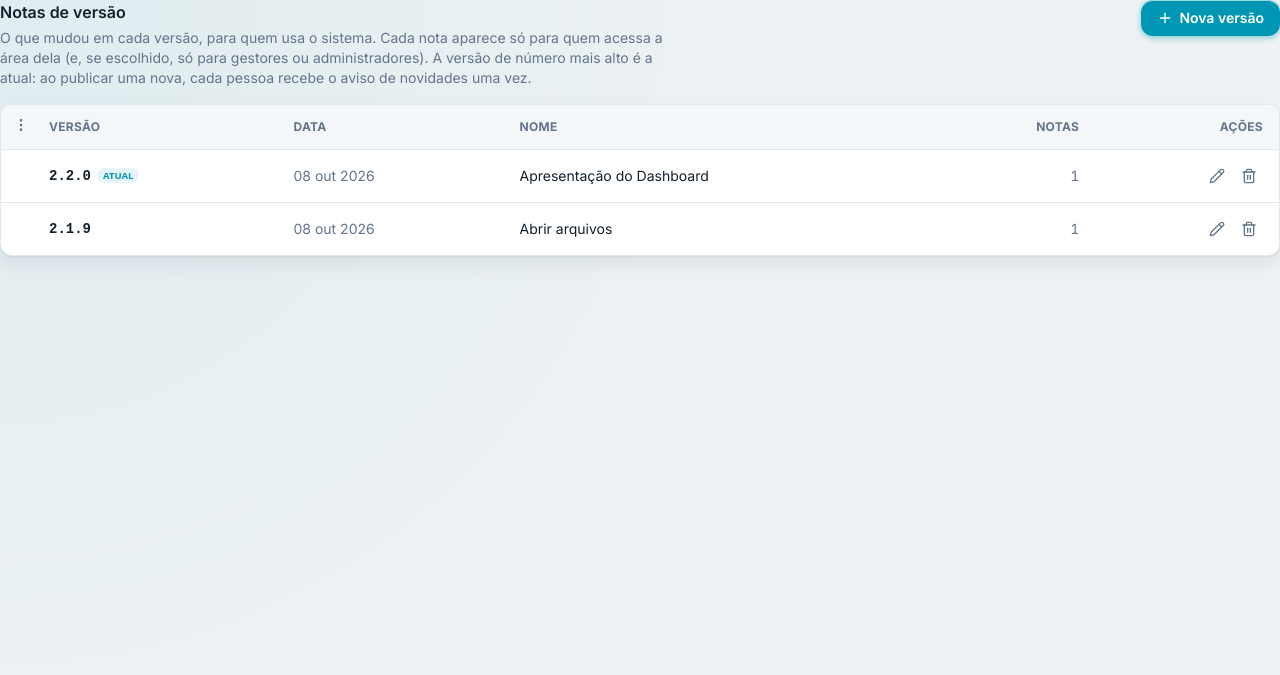
Test: Configurações › Notas de versão › Antes sem Agora não salva, e diz em qual nota está o problema
Click the button named "Editar versão 2.2.0": point(1217, 176) 1203,162 -> 1231,190
(page scrolled)
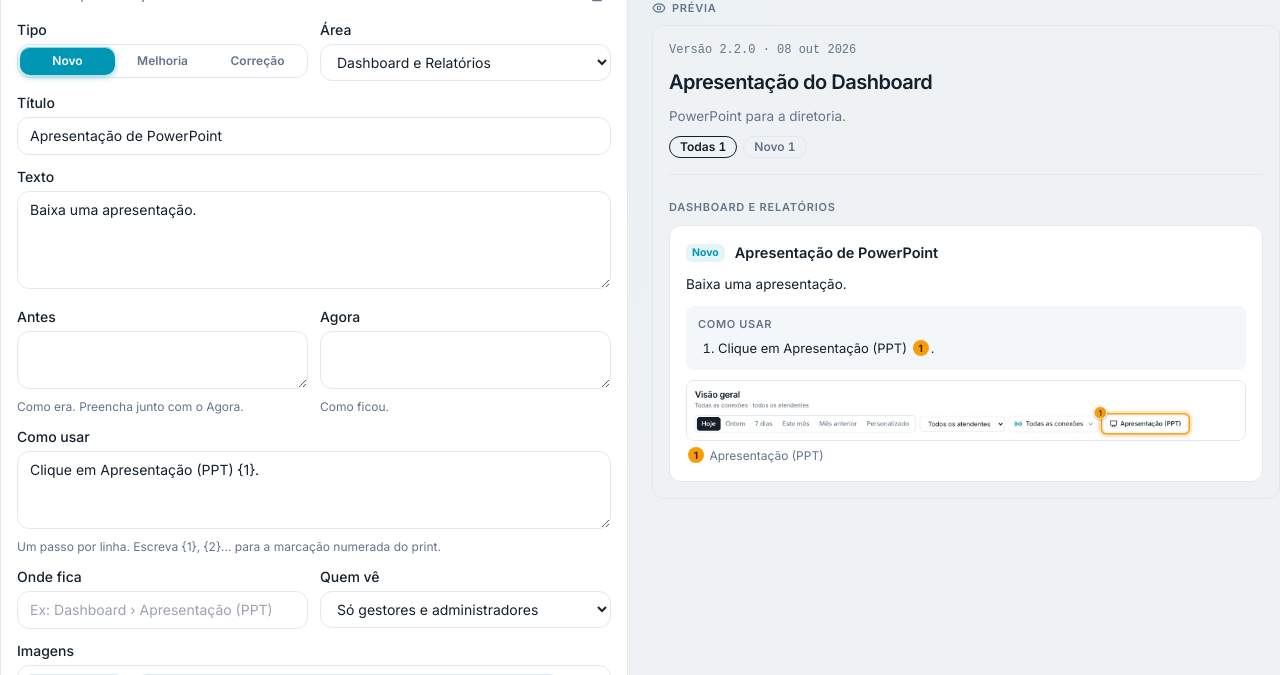
In the text box labelled "Antes Como era. Preencha junto com o Agora.": point(162, 360) 17,331 -> 308,389, type "Só o antes"
(page scrolled)
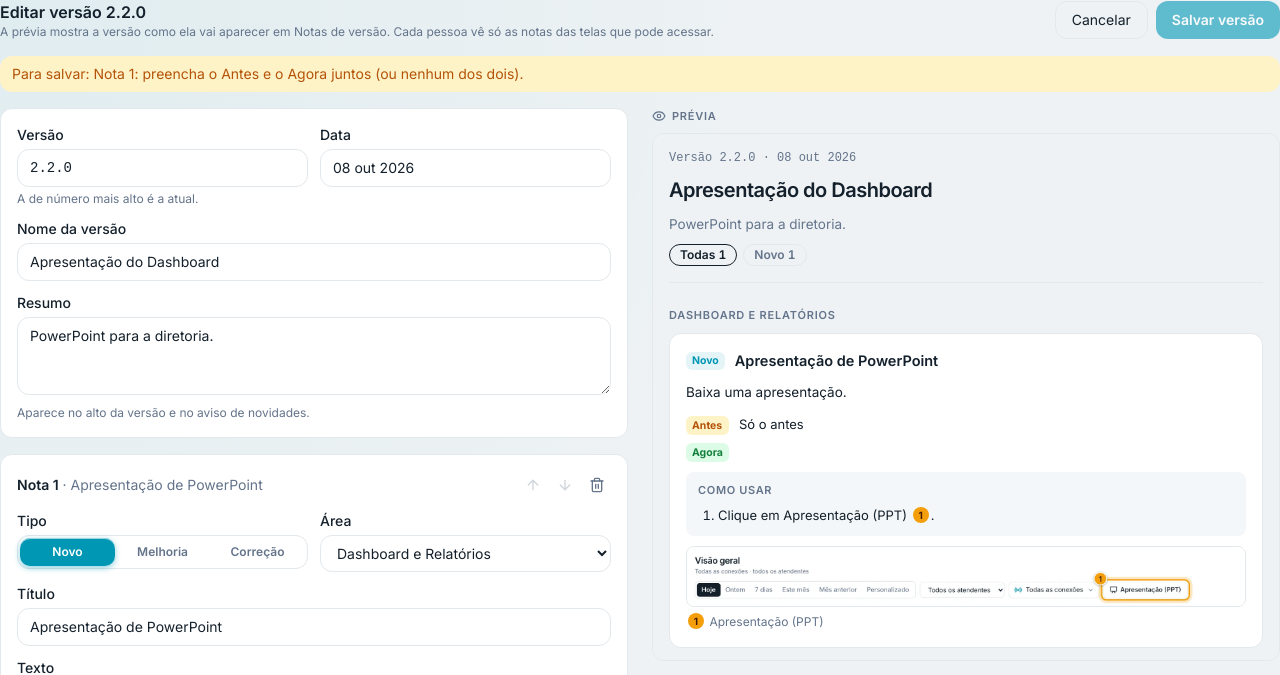
Expected: the message shows "Nota 1: preencha o Antes e o Agora juntos", 94,65 -> 524,82
Expected: the button "Salvar versão" is disabled, 1156,1 -> 1279,39
